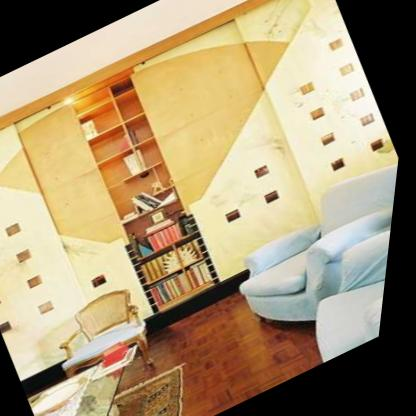Chair: (22, 276, 174, 408)
Sofa: (211, 151, 403, 341)
Table: (30, 334, 189, 416)
